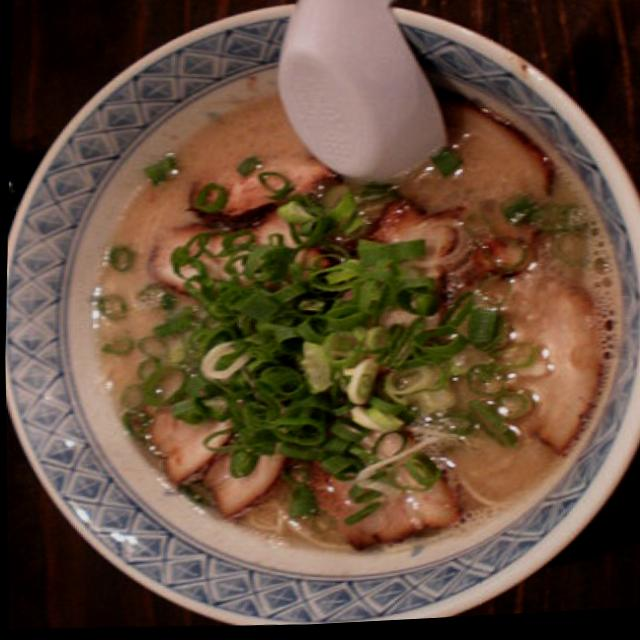面条主食: (72, 57, 628, 571)
